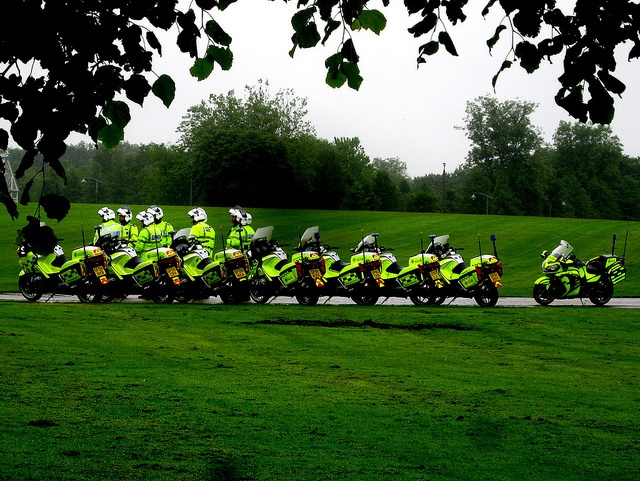non-vehicle: (531, 229, 629, 307), (15, 223, 108, 304), (293, 226, 385, 306), (94, 224, 183, 305), (351, 231, 445, 307), (248, 225, 327, 306), (419, 232, 504, 307), (169, 227, 249, 303)
